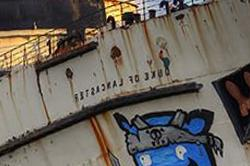rust: (85, 111, 113, 166), (139, 23, 164, 82), (225, 69, 250, 120), (188, 5, 219, 46), (54, 45, 99, 58), (104, 1, 128, 13), (112, 46, 124, 64)
